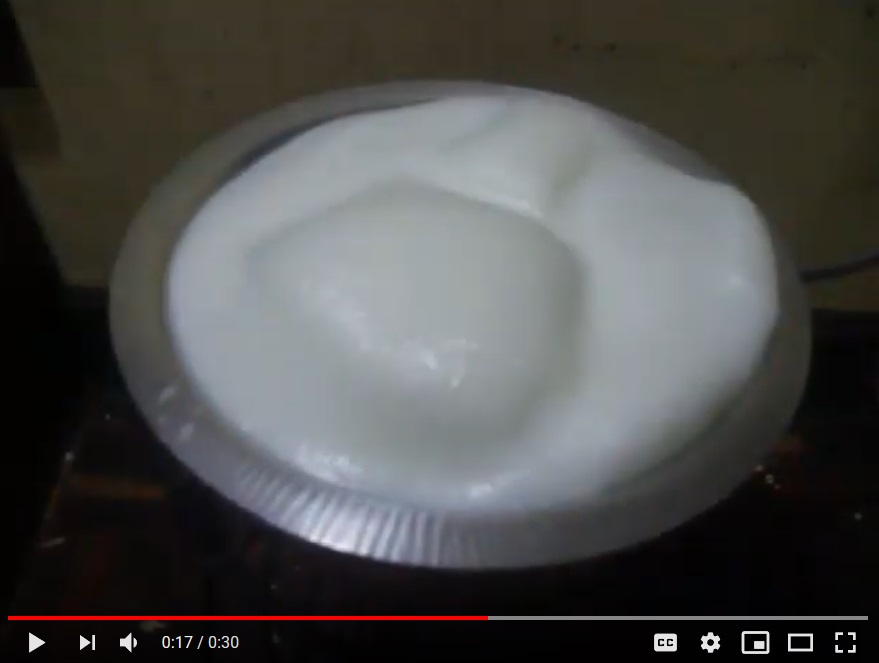Boiled: (121, 78, 806, 583)
